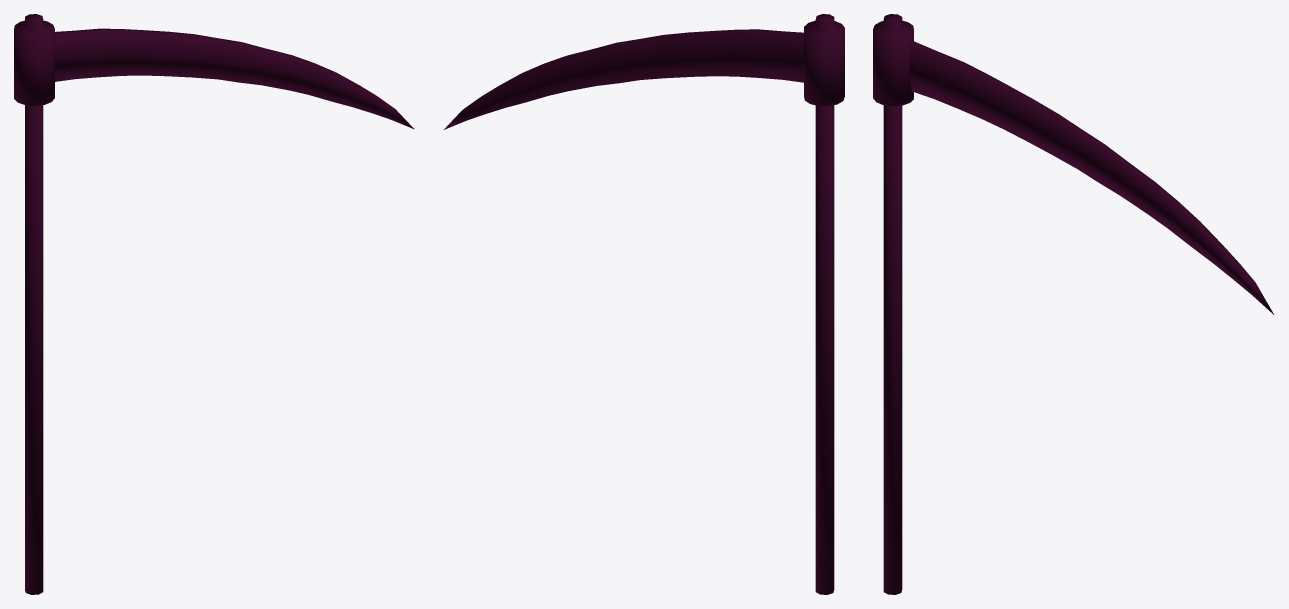
File: kamaxx.fbx
3 renders of one model, left to right at view 1: azimuth 30°, elevation 25°; view 2: azimuth 150°, elevation 25°; view 3: azimuth 330°, elevation 25°, orthographic.
Parts seen in each view (by area): view 1: obj3, obj1, obj2; view 2: obj3, obj1, obj2; view 3: obj3, obj1, obj2.
Boxes of the visible parts, left/top/right/bottom form: obj3: left=55, top=28, right=414, bottom=129; obj1: left=25, top=14, right=43, bottom=594; obj2: left=14, top=20, right=54, bottom=105; obj3: left=444, top=29, right=803, bottom=129; obj1: left=815, top=14, right=834, bottom=594; obj2: left=804, top=20, right=844, bottom=106; obj3: left=909, top=41, right=1273, bottom=314; obj1: left=883, top=14, right=902, bottom=594; obj2: left=873, top=20, right=913, bottom=106.
Size of the model in its own units: 594 by 817 by 52.43.
